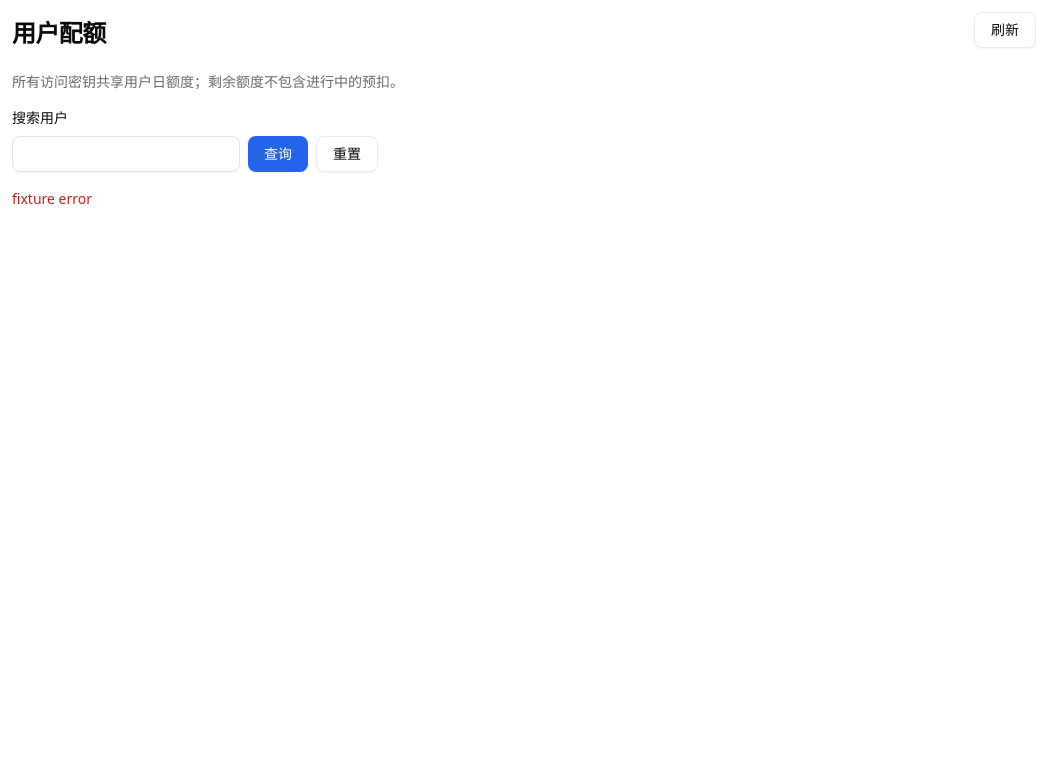
Scenario: retries list errors and ignores stale results after a new query
Expected: the message reads "fixture error", left=12, top=189, right=92, bottom=208
Click the button "刷新".
click(1005, 30)  # box left=974, top=12, right=1036, bottom=48
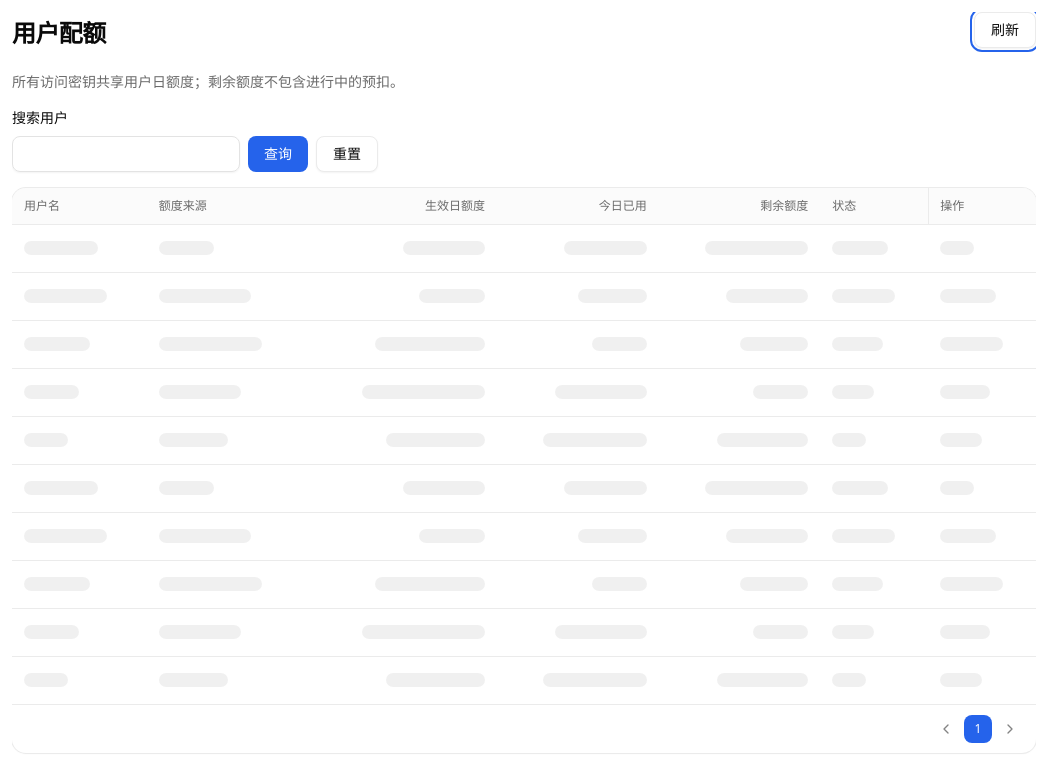
Type "alice" into the field labelled "搜索用户".
click(126, 154); type("alice")  # box left=12, top=136, right=240, bottom=172
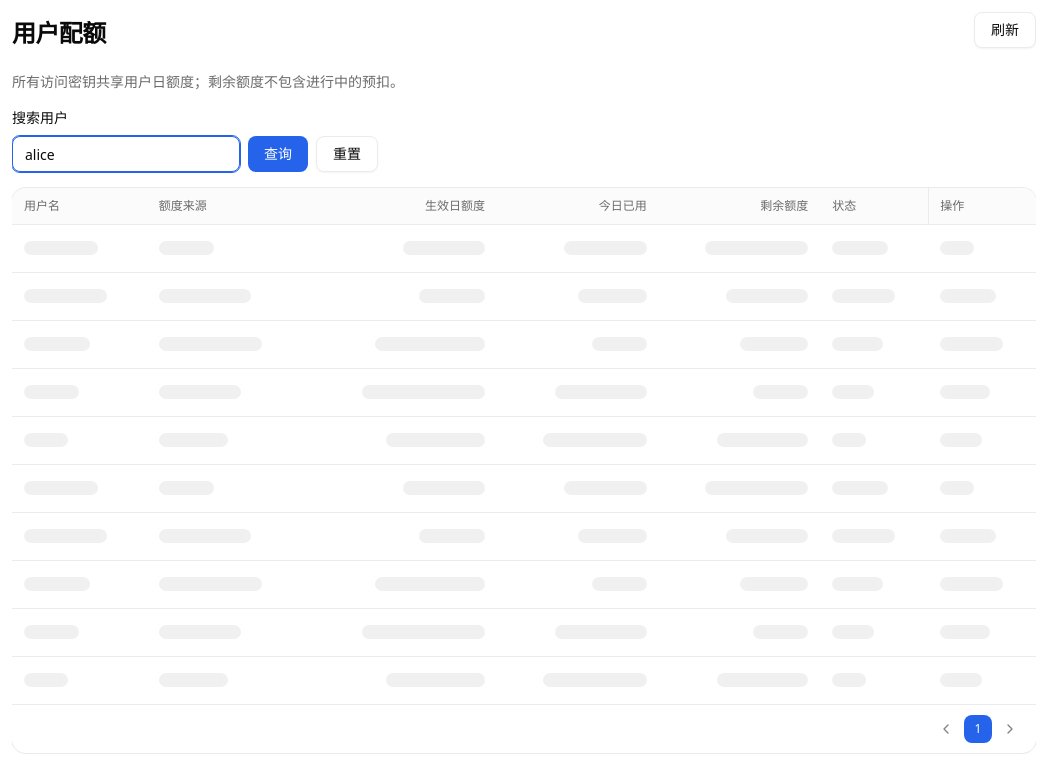
Click the button "查询".
click(278, 154)  # box left=248, top=136, right=308, bottom=172
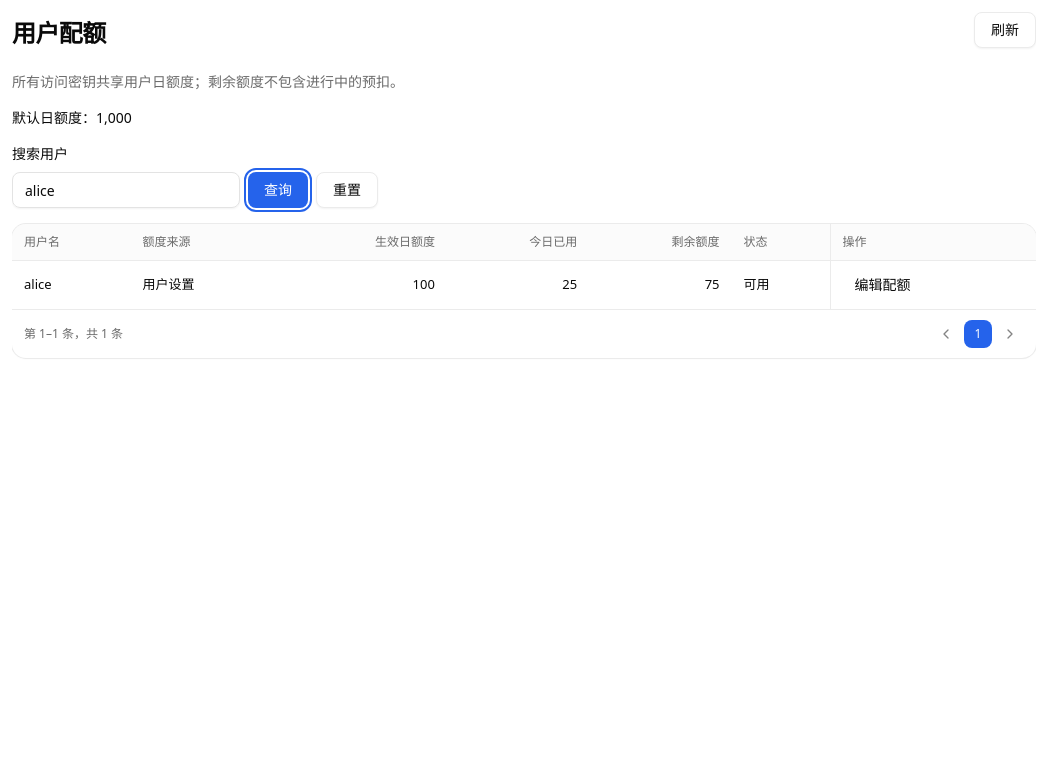
Result: the text "alice" is shown at left=12, top=260, right=131, bottom=308
